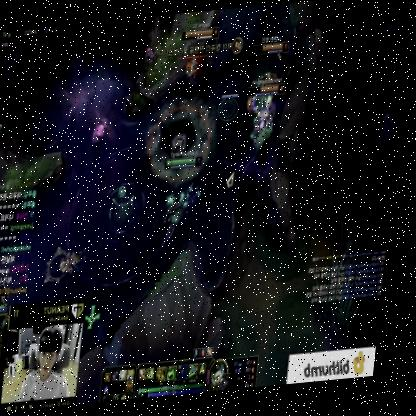streamer: (25, 325, 84, 403)
